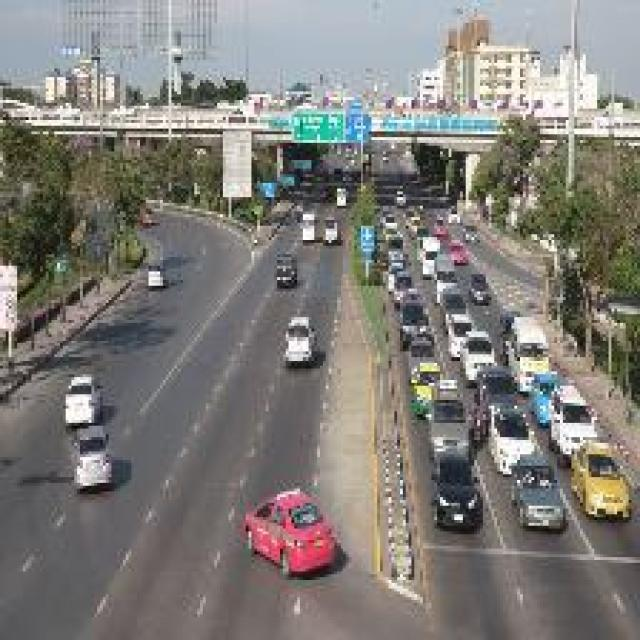other: (246, 478, 332, 577), (570, 441, 632, 528)
